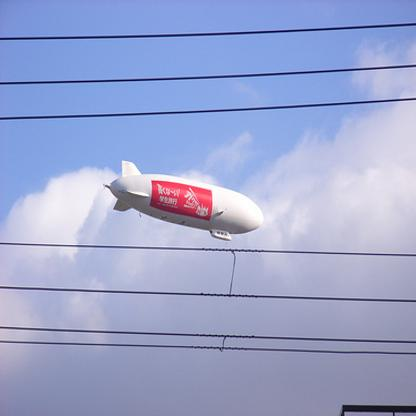Airship: (103, 157, 268, 243)
